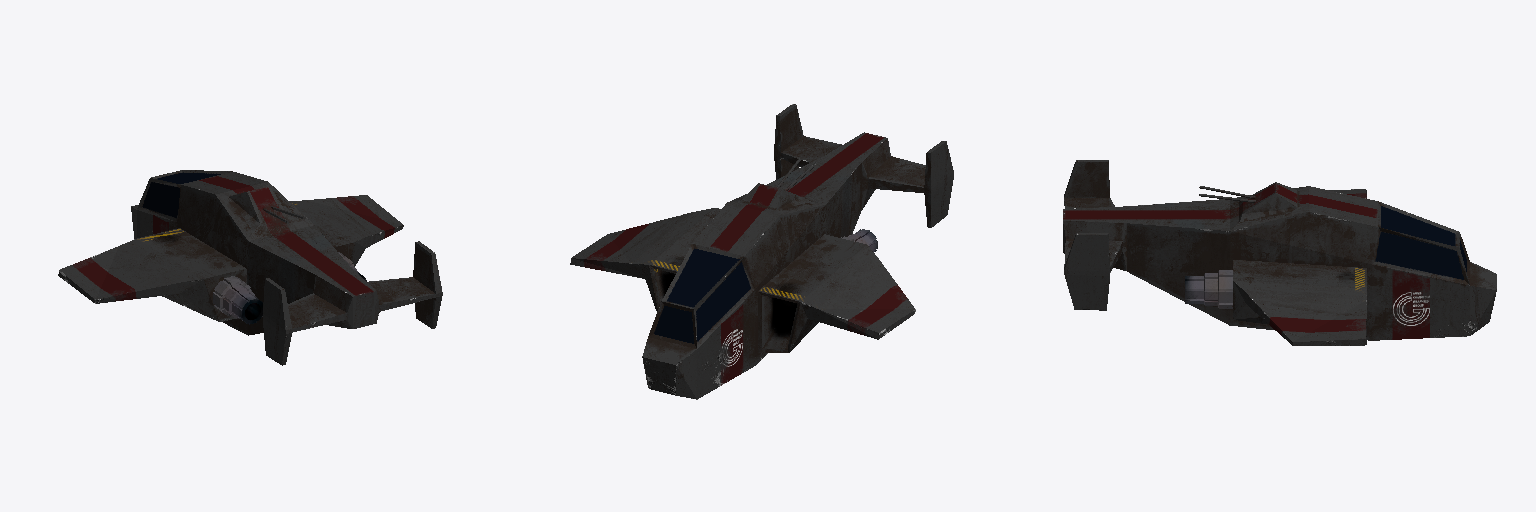
3 views of the same model, side by side, from view 1: azimuth 30°, elevation 25°; view 2: azimuth 150°, elevation 25°; view 3: azimuth 270°, elevation 25° (orthographic).
Visible parts, largest first — view 1: craft; view 2: craft; view 3: craft.
Boxes of the visible parts, <box> form: craft: <box>58,170,442,365</box>; craft: <box>570,104,953,399</box>; craft: <box>1063,160,1496,345</box>.
Size of the model in its own units: 14.83 by 6.31 by 18.09.
Materials: 1 (1 with a texture image).